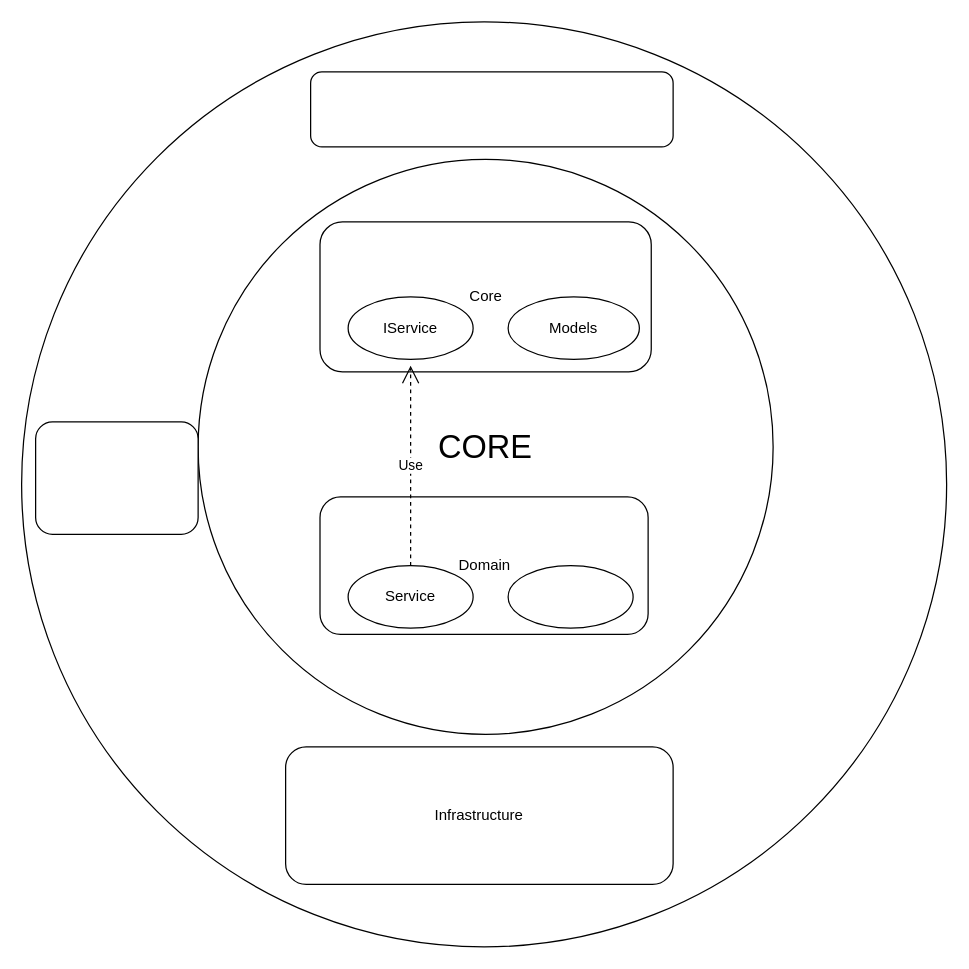
The diagram is 969 pixels wide and 969 high, and some of its shapes have lost their labels. Each missing label, with the centre of its shape:
IRepository: the point at 570,596
Presentation: the point at 491,109
Test: the point at 116,477
